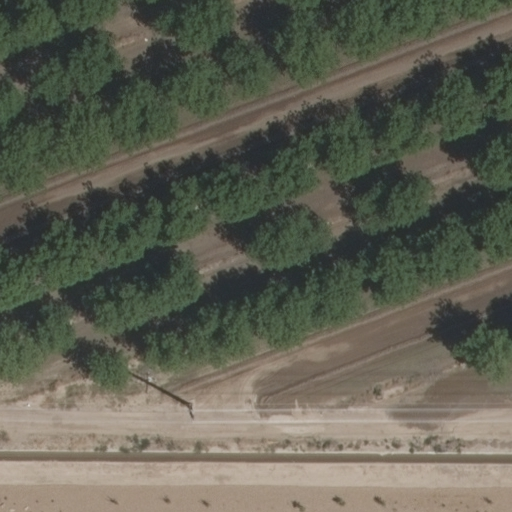DT: (177, 398, 203, 422)
